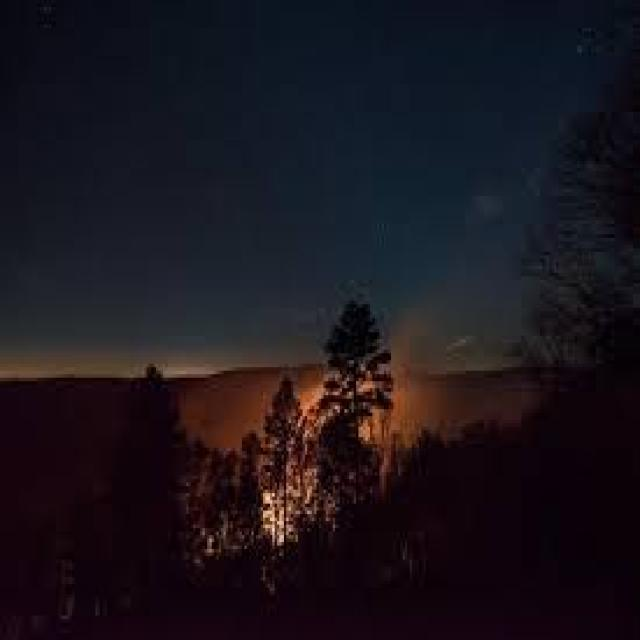Fire: (260, 362, 422, 548), (182, 398, 257, 572)
